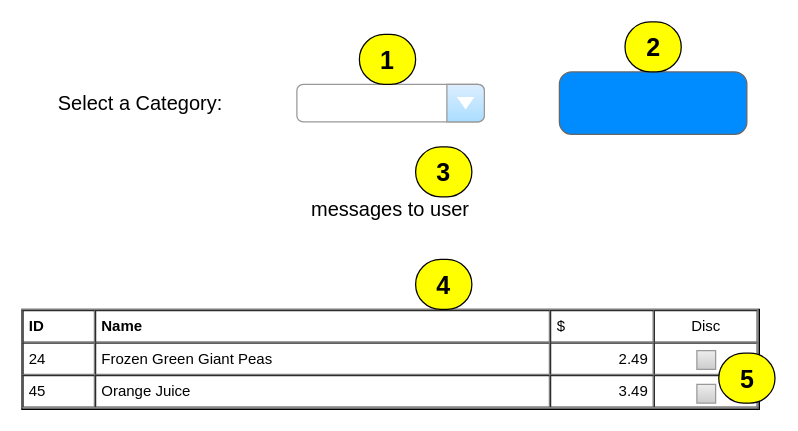
This 798x431 diagram has some shape labels left out. The centre of each missing label's shape, as x and y in pixels:
Fetch: the point at 652,102
Frozen: the point at 390,102
